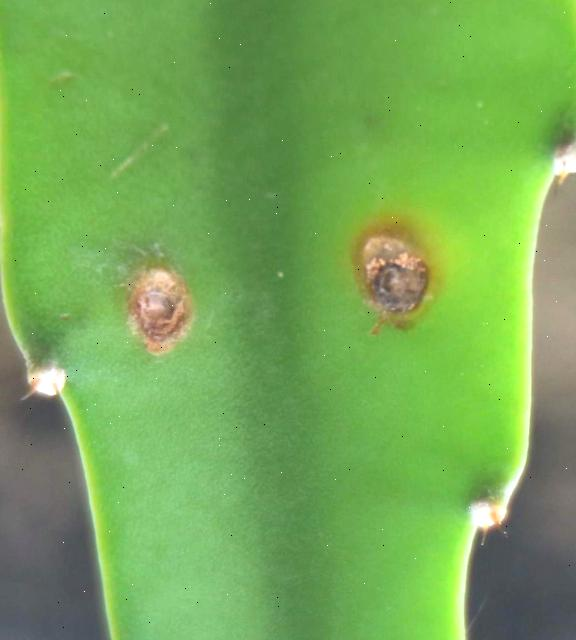stemcanker: (345, 212, 441, 335), (123, 261, 197, 358)
